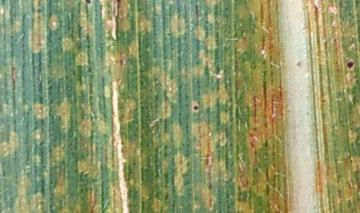tarspot: (117, 51, 125, 67), (344, 59, 354, 70), (191, 103, 199, 112), (263, 138, 270, 148), (81, 1, 94, 6), (348, 157, 354, 164), (252, 126, 258, 132)
